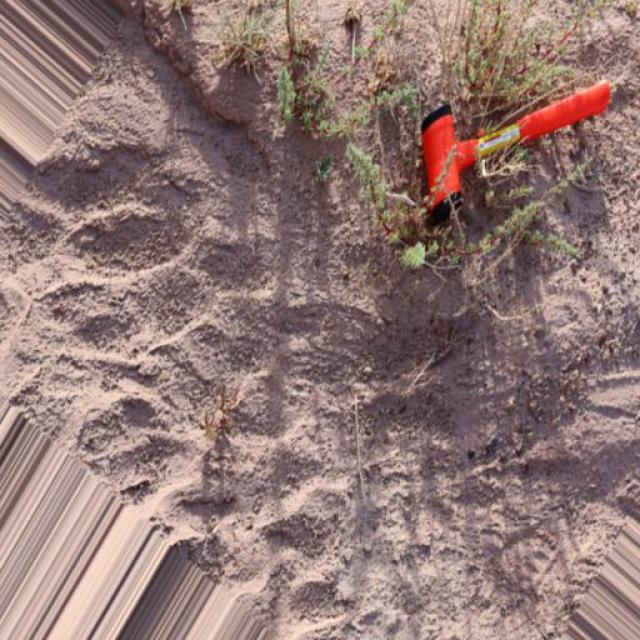mallet: (417, 76, 612, 225)
